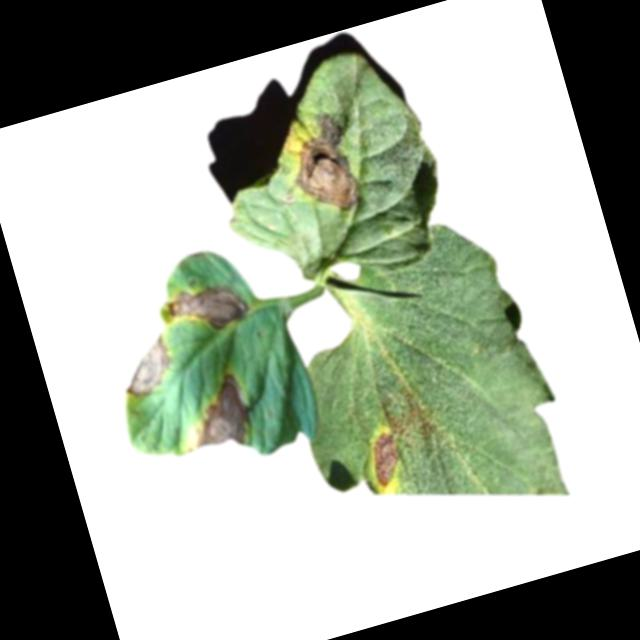Early_blight: (278, 109, 371, 225), (160, 273, 252, 345), (181, 372, 257, 458), (112, 333, 179, 401), (362, 428, 407, 489)
